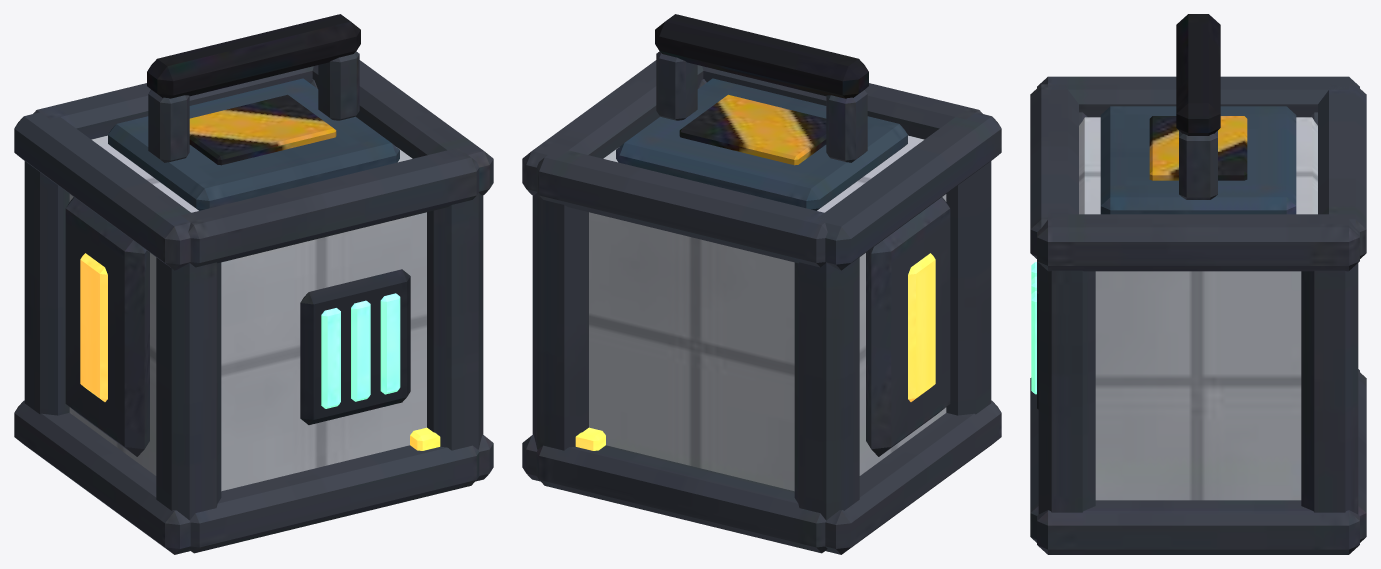
Rendered from battery-cell.glb.
3 views of the same model, side by side, from view 1: azimuth 30°, elevation 25°; view 2: azimuth 150°, elevation 25°; view 3: azimuth 270°, elevation 25° (orthographic).
Parts seen in each view (by area): view 1: CellFrame, CellBody, SideWindowFrame, TopPlate, Handle, ChargeGrille, HazardPlate, SideWindowPane, HandlePostL, HandlePostR, ChargeBar2, ChargeBar1 (+1 smaller); view 2: CellFrame, CellBody, SideWindowFrame, TopPlate, Handle, HazardPlate, SideWindowPane, HandlePostL, HandlePostR; view 3: CellFrame, CellBody, TopPlate, Handle, HazardPlate, HandlePostR, ChargeBar2.
Boxes of the visible parts, left/top/right/bottom form: CellFrame: left=14, top=60, right=493, bottom=554; CellBody: left=69, top=135, right=426, bottom=491; SideWindowFrame: left=65, top=197, right=149, bottom=456; TopPlate: left=108, top=78, right=399, bottom=210; Handle: left=147, top=14, right=360, bottom=98; ChargeGrille: left=300, top=269, right=410, bottom=424; HazardPlate: left=189, top=94, right=336, bottom=165; SideWindowPane: left=80, top=253, right=107, bottom=401; HandlePostL: left=148, top=89, right=189, bottom=162; HandlePostR: left=318, top=51, right=359, bottom=120; ChargeBar2: left=380, top=293, right=400, bottom=394; ChargeBar1: left=351, top=300, right=370, bottom=401; CellFrame: left=522, top=60, right=1001, bottom=554; CellBody: left=589, top=135, right=946, bottom=491; SideWindowFrame: left=866, top=197, right=950, bottom=456; TopPlate: left=616, top=78, right=907, bottom=210; Handle: left=655, top=14, right=868, bottom=98; HazardPlate: left=679, top=94, right=826, bottom=165; SideWindowPane: left=908, top=253, right=935, bottom=401; HandlePostL: left=826, top=89, right=867, bottom=162; HandlePostR: left=656, top=51, right=697, bottom=120; CellFrame: left=1030, top=76, right=1366, bottom=554; CellBody: left=1079, top=117, right=1317, bottom=500; TopPlate: left=1100, top=106, right=1296, bottom=214; Handle: left=1176, top=14, right=1220, bottom=135; HazardPlate: left=1149, top=116, right=1247, bottom=180; HandlePostR: left=1179, top=131, right=1217, bottom=199; ChargeBar2: left=1031, top=291, right=1036, bottom=394.
Bounding box in the file's own units: 0.3872 × 0.4747 × 0.3435.
Materials: 9 (9 with a texture image).
